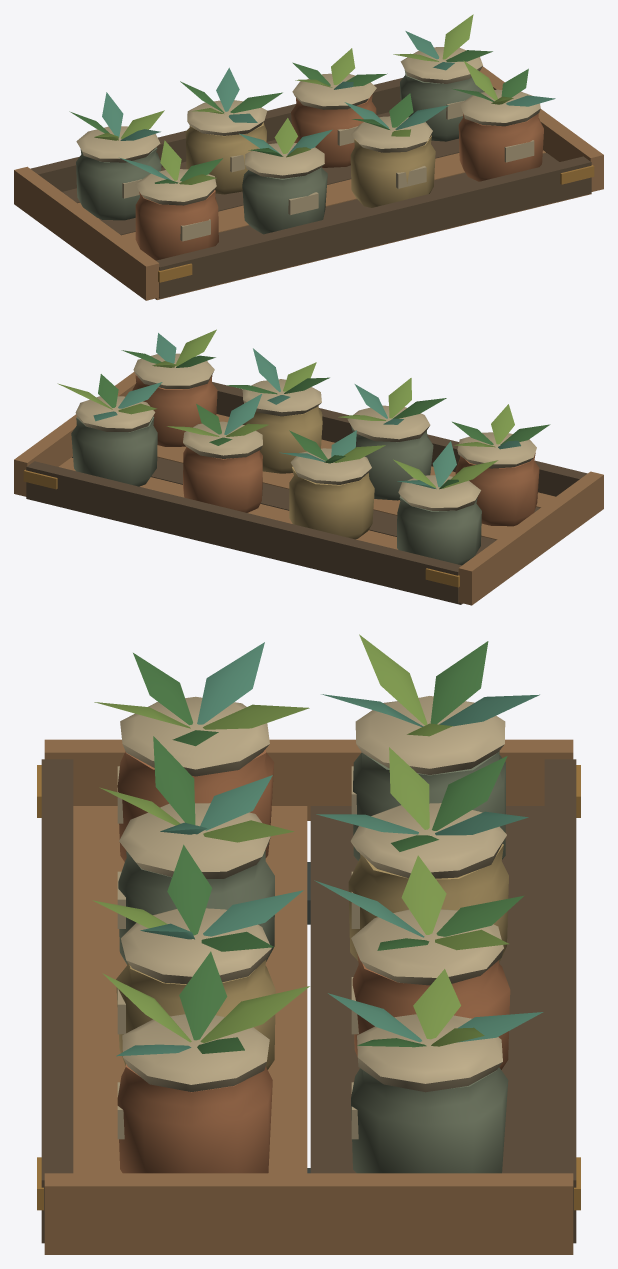
File: w0b-plaza-stock-herbs.glb
3 renders of one model, top to bottom at view 1: azimuth 30°, elevation 25°; view 2: azimuth 150°, elevation 25°; view 3: azimuth 270°, elevation 25°, orthographic. The views are drawn at different scales.
Visible parts, largest first — view 1: Plaza stall tray | herbs; view 2: Plaza stall tray | herbs; view 3: Plaza stall tray | herbs.
Boxes of the visible parts, x1,y1,x2,y2 form: Plaza stall tray | herbs: (14, 14, 603, 300); Plaza stall tray | herbs: (14, 329, 603, 605); Plaza stall tray | herbs: (37, 634, 580, 1254).
Size of the model in its own units: 1.4 by 0.3328 by 0.7203.
